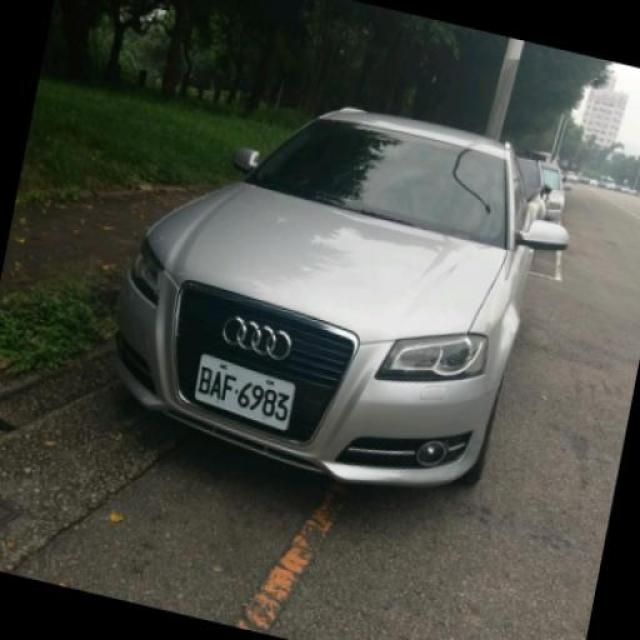Legalparking: (89, 97, 561, 510)
